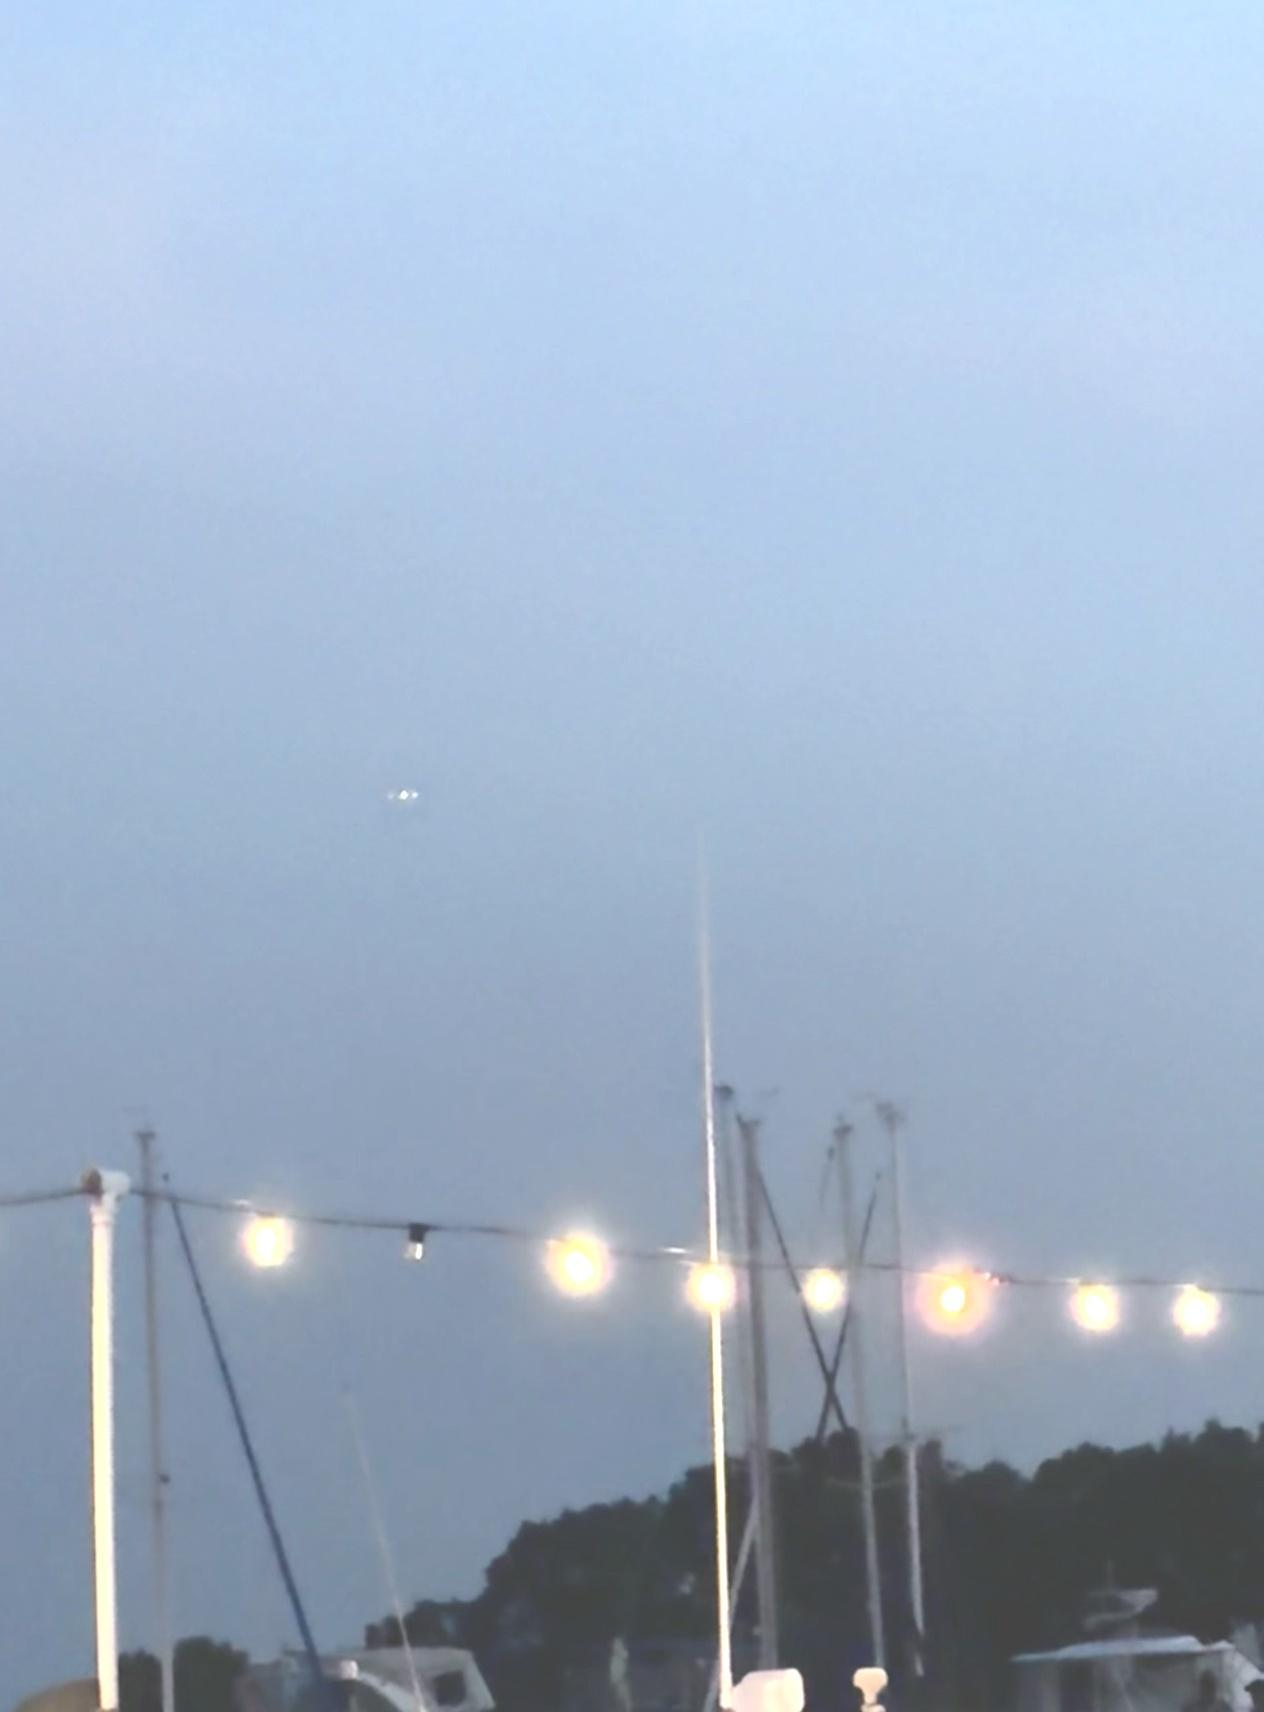Plane: (377, 767, 436, 817)
